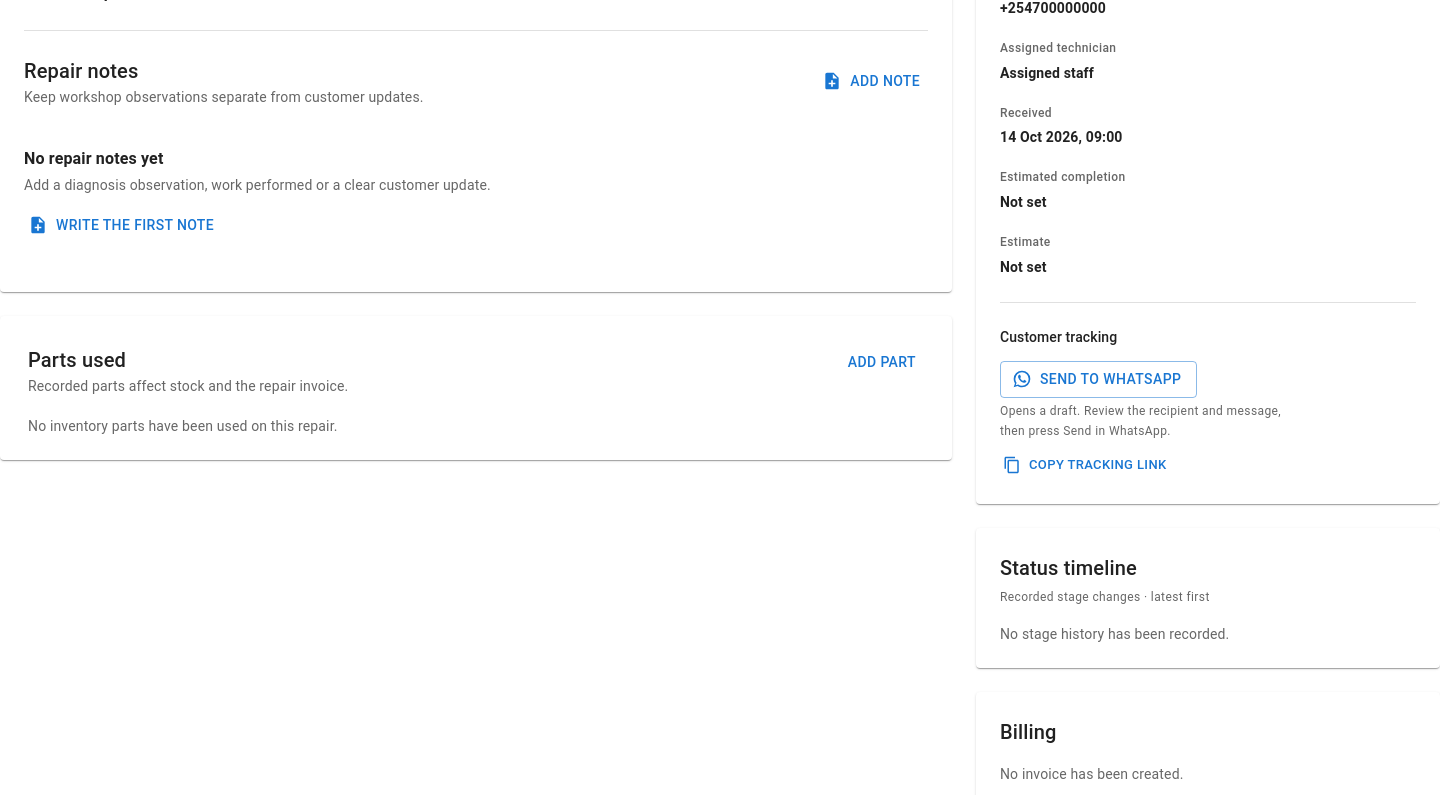
Scenario: repair mutation feedback and safety › confirms clipboard completion without claiming a customer message was sent
The image size is (1440, 795).
(page scrolled)
Click the button "Copy tracking link". click: point(1086, 465)
box: [1000,450,1172,480]
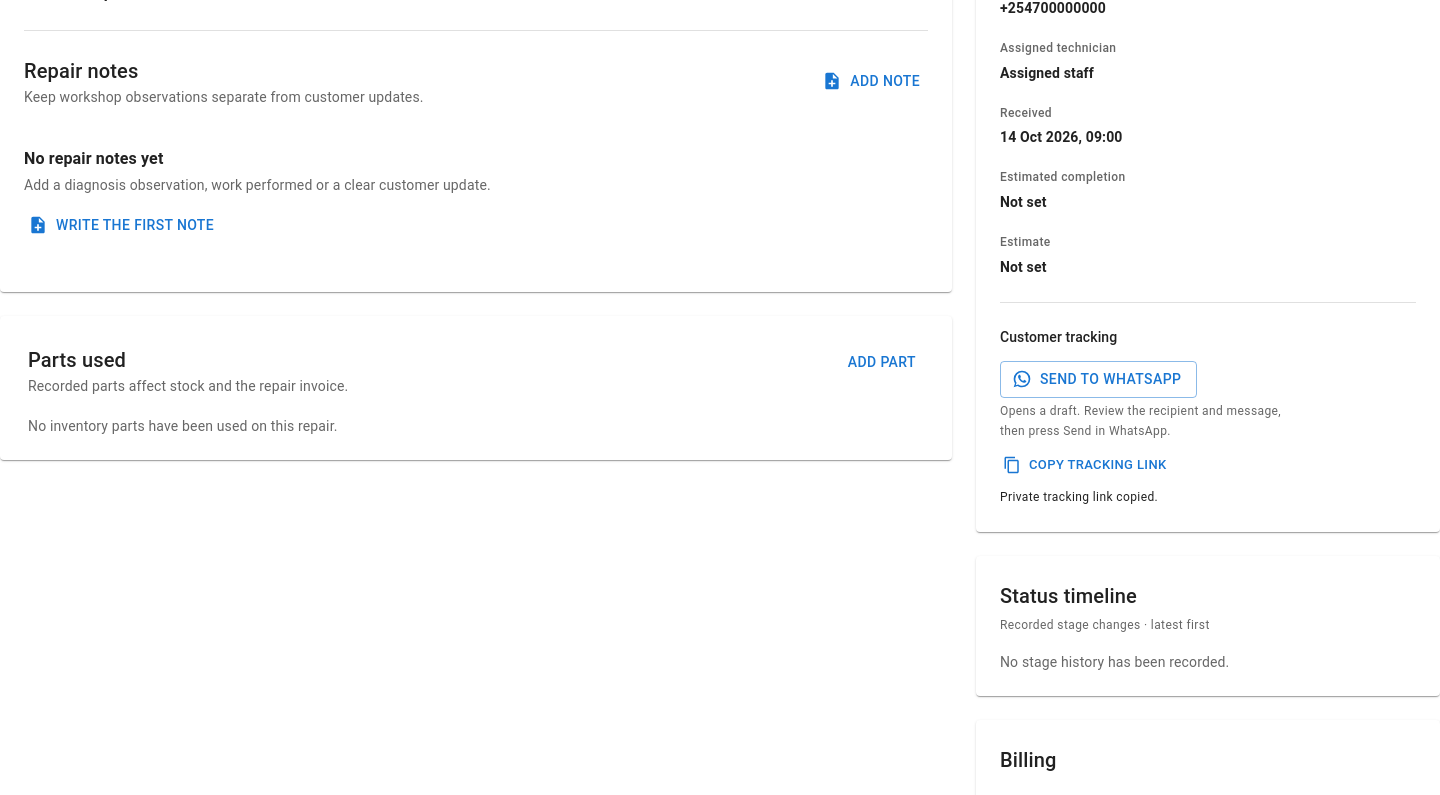
Expected: the text "Private tracking link copied." is shown, [1000,490,1158,504]
